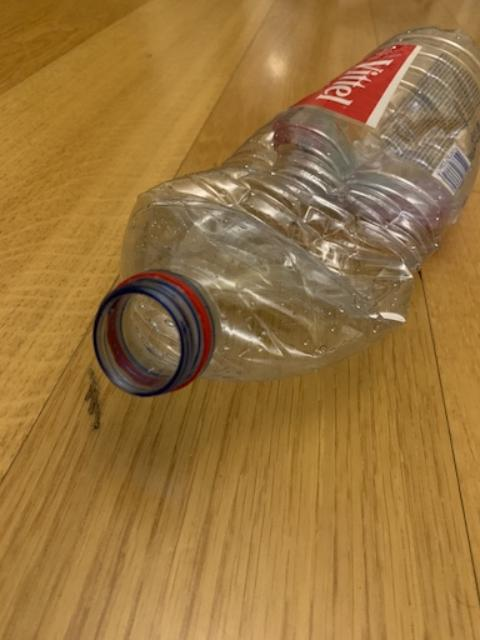plastic: (92, 26, 476, 394)
